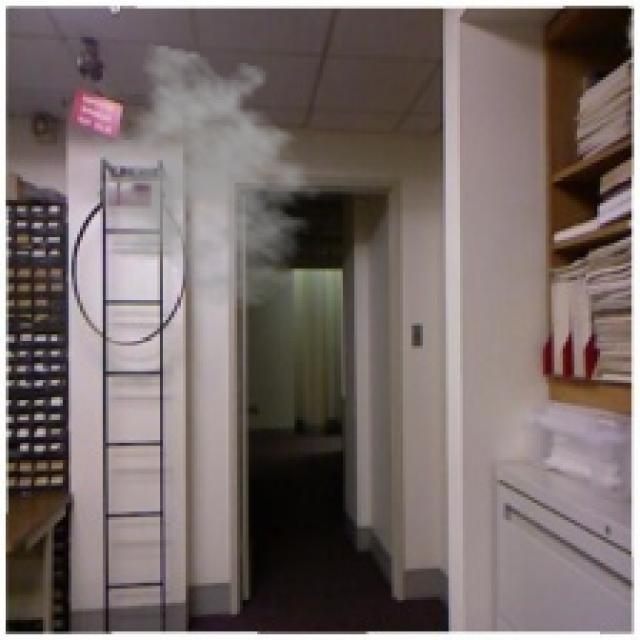Smoke: (80, 42, 334, 312)
